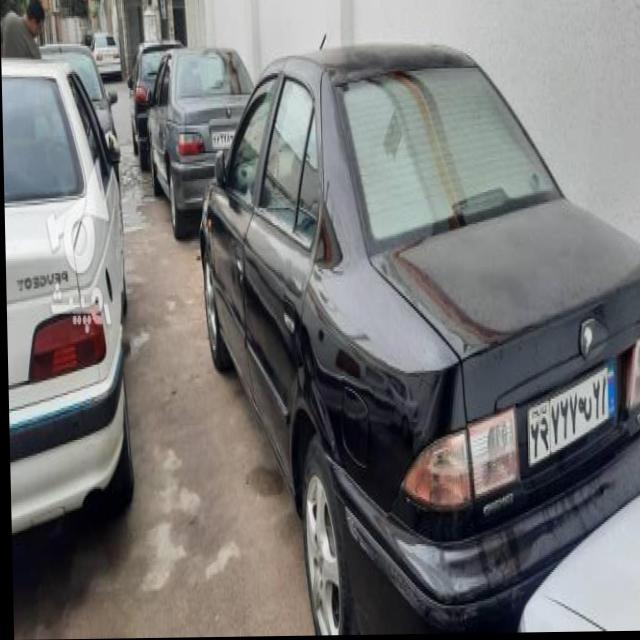licence: (522, 359, 618, 463), (211, 126, 235, 145)
